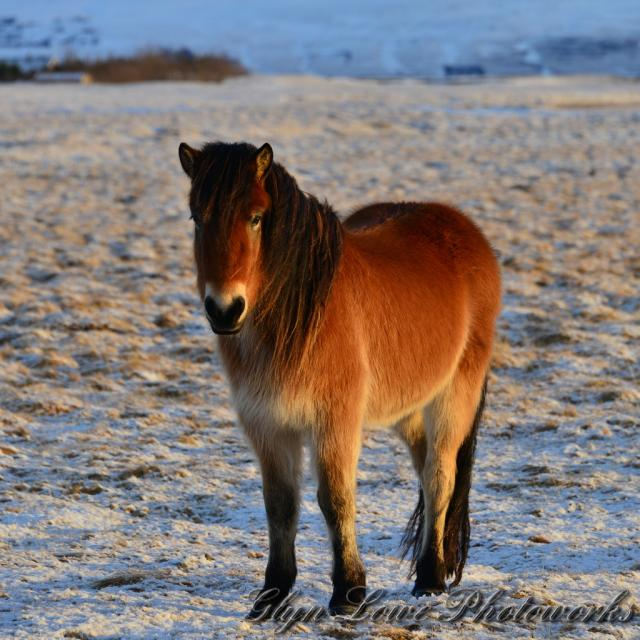Horse: (178, 139, 502, 624)
